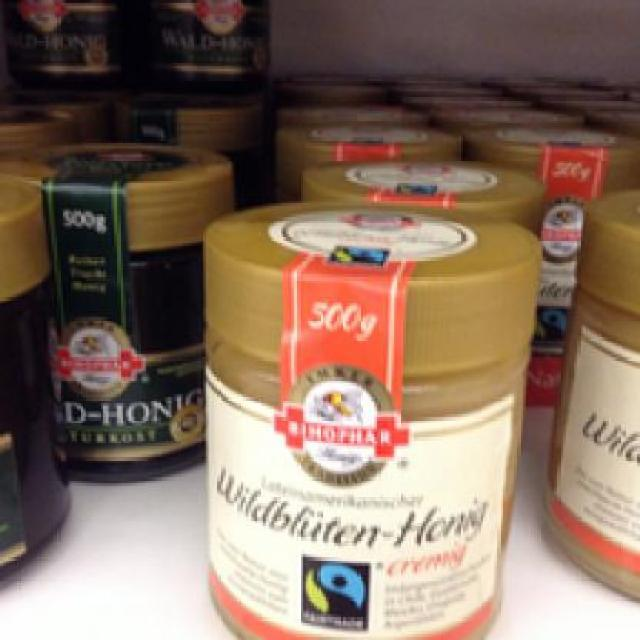Honey: (189, 197, 520, 637), (17, 146, 230, 474)
